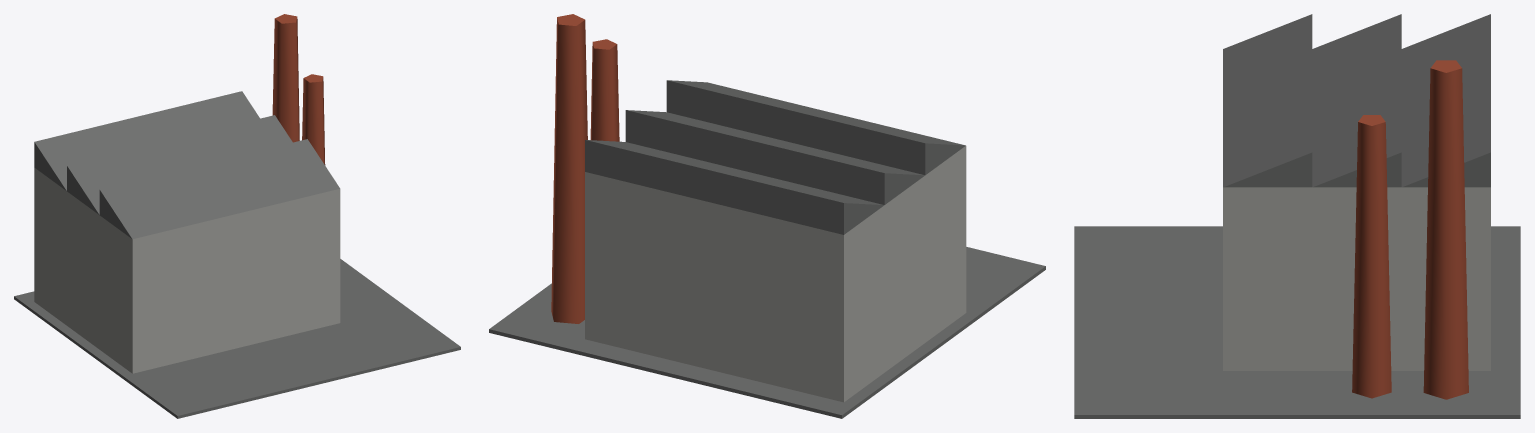
Rendered from bld_special_factory_a06_lod2.glb.
3 renders of one model, left to right at view 1: azimuth 30°, elevation 25°; view 2: azimuth 150°, elevation 25°; view 3: azimuth 270°, elevation 25°, orthographic. The views are drawn at different scales.
Parts seen in each view (by area): view 1: body; view 2: body; view 3: body.
Part boxes in pixels (x1,y1,x2,y2): body: [14, 14, 460, 418]; body: [489, 14, 1045, 418]; body: [1074, 14, 1520, 418].
Size of the model in its own units: 15 by 12.15 by 15.
